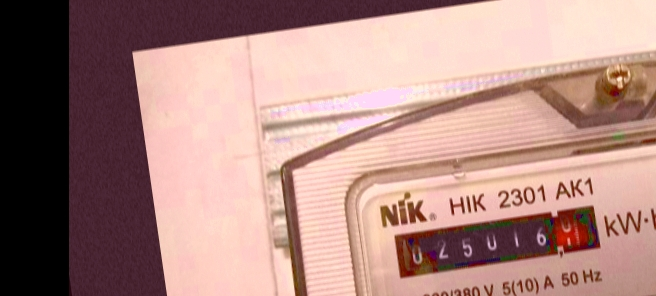0: (486, 227, 503, 251), (411, 241, 427, 265), (561, 211, 575, 233)
1: (511, 222, 525, 249), (566, 234, 575, 246)
2: (437, 235, 453, 259)
5: (462, 235, 476, 257)
6: (535, 222, 551, 248)
screen: (385, 193, 614, 285)
